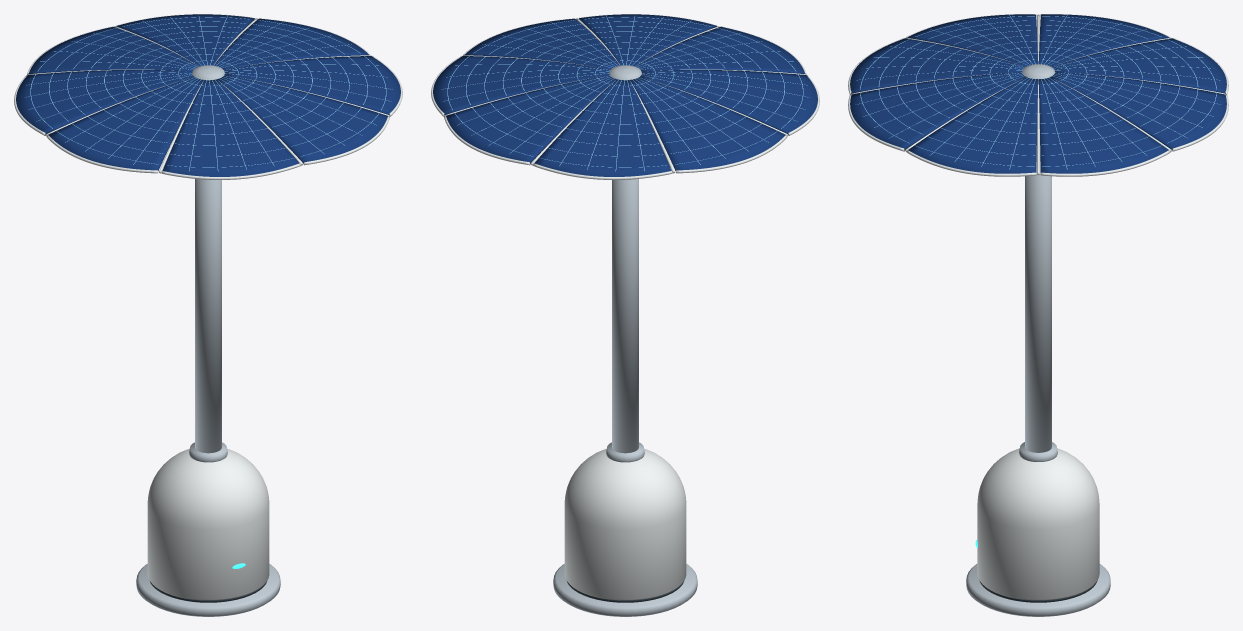
Rendered from SolarTower.fbx.
3 views of the same model, side by side, from view 1: azimuth 30°, elevation 25°; view 2: azimuth 150°, elevation 25°; view 3: azimuth 270°, elevation 25° (orthographic).
Visible parts, largest first — view 1: Rounded_Equipment_Base.001, Thin_Solar_Petal_6.001, Thin_Solar_Petal_5.001, Long_Central_Mast.001, Thin_Solar_Petal_7.001, Thin_Solar_Petal_4.001, Thin_Solar_Petal_8.001, Thin_Solar_Petal_3.001, Thin_Solar_Petal_1.001, Thin_Solar_Petal_2.001, Ground_Flange.001, Cell_Lines_7.001 (+7 smaller); view 2: Rounded_Equipment_Base.001, Thin_Solar_Petal_3.001, Thin_Solar_Petal_4.001, Long_Central_Mast.001, Thin_Solar_Petal_2.001, Thin_Solar_Petal_5.001, Thin_Solar_Petal_1.001, Thin_Solar_Petal_6.001, Thin_Solar_Petal_8.001, Thin_Solar_Petal_7.001, Ground_Flange.001, Cell_Lines_2.001 (+7 smaller); view 3: Rounded_Equipment_Base.001, Thin_Solar_Petal_1.001, Thin_Solar_Petal_8.001, Long_Central_Mast.001, Thin_Solar_Petal_2.001, Thin_Solar_Petal_7.001, Thin_Solar_Petal_3.001, Thin_Solar_Petal_6.001, Thin_Solar_Petal_4.001, Thin_Solar_Petal_5.001, Ground_Flange.001, Cell_Lines_1.001 (+7 smaller).
Part boxes in pixels (x1,y1,x2,y2): Rounded_Equipment_Base.001: (147, 448, 269, 600); Thin_Solar_Petal_6.001: (162, 79, 299, 176); Thin_Solar_Petal_5.001: (48, 77, 203, 171); Long_Central_Mast.001: (195, 179, 221, 453); Thin_Solar_Petal_7.001: (217, 75, 387, 163); Thin_Solar_Petal_4.001: (16, 70, 193, 134); Thin_Solar_Petal_8.001: (223, 56, 400, 114); Thin_Solar_Petal_3.001: (28, 26, 198, 74); Thin_Solar_Petal_1.001: (214, 18, 369, 69); Thin_Solar_Petal_2.001: (117, 14, 254, 66); Ground_Flange.001: (136, 564, 280, 616); Cell_Lines_7.001: (219, 75, 378, 156); Rounded_Equipment_Base.001: (564, 448, 686, 600); Thin_Solar_Petal_3.001: (534, 79, 671, 176); Thin_Solar_Petal_4.001: (630, 77, 785, 171); Long_Central_Mast.001: (612, 179, 638, 453); Thin_Solar_Petal_2.001: (446, 75, 616, 163); Thin_Solar_Petal_5.001: (640, 70, 817, 134); Thin_Solar_Petal_1.001: (433, 56, 610, 114); Thin_Solar_Petal_6.001: (635, 26, 805, 74); Thin_Solar_Petal_8.001: (464, 18, 619, 69); Thin_Solar_Petal_7.001: (579, 14, 716, 66); Ground_Flange.001: (553, 564, 697, 616); Cell_Lines_2.001: (455, 75, 614, 156); Rounded_Equipment_Base.001: (977, 448, 1099, 600); Thin_Solar_Petal_1.001: (1038, 77, 1168, 173); Thin_Solar_Petal_8.001: (908, 77, 1038, 173); Long_Central_Mast.001: (1025, 145, 1051, 452); Thin_Solar_Petal_2.001: (1050, 72, 1226, 149); Thin_Solar_Petal_7.001: (850, 72, 1026, 149); Thin_Solar_Petal_3.001: (1052, 38, 1226, 93); Thin_Solar_Petal_6.001: (850, 38, 1024, 93); Thin_Solar_Petal_4.001: (1038, 14, 1169, 66); Thin_Solar_Petal_5.001: (907, 14, 1038, 66); Ground_Flange.001: (966, 564, 1110, 616); Cell_Lines_1.001: (1039, 77, 1161, 169).
Bounding box in the file's own units: 823 × 1240 × 823.
